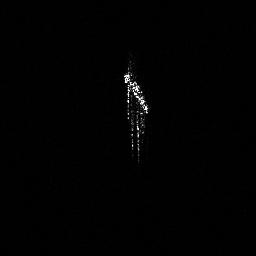ship: (119, 66, 152, 162)
